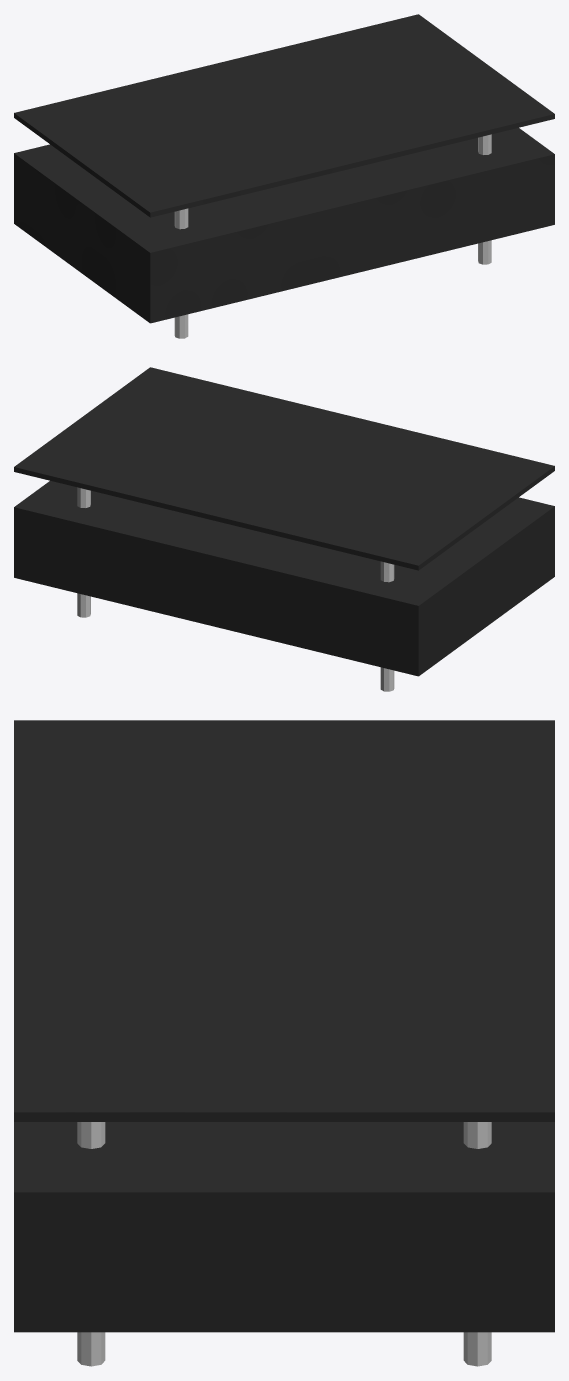
Rendered from Table_06_03.fbx.
3 renders of one model, top to bottom at view 1: azimuth 30°, elevation 25°; view 2: azimuth 150°, elevation 25°; view 3: azimuth 270°, elevation 25°, orthographic. The views are drawn at different scales.
Parts seen in each view (by area): view 1: Table_06_03; view 2: Table_06_03; view 3: Table_06_03.
Boxes of the visible parts, x1,y1,x2,y2 form: Table_06_03: [14, 14, 554, 338]; Table_06_03: [14, 367, 554, 691]; Table_06_03: [14, 720, 554, 1366].
Size of the model in its own units: 1.77 by 0.6259 by 1.03.
